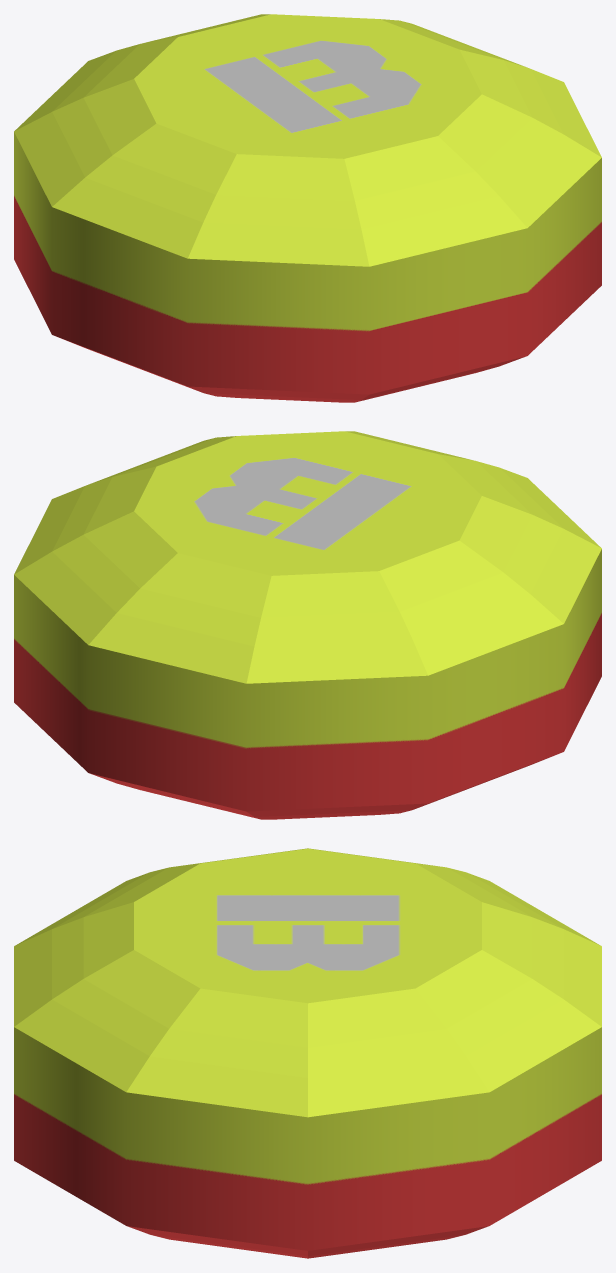
The model's file is Ballstone2.fbx.
The picture shows the model from 3 angles, top to bottom: view 1: azimuth 30°, elevation 25°; view 2: azimuth 150°, elevation 25°; view 3: azimuth 270°, elevation 25°; orthographic projection. The views are drawn at different scales.
Visible parts, largest first — view 1: Cylinder001; view 2: Cylinder001; view 3: Cylinder001.
Part boxes in pixels (x1,y1,x2,y2): Cylinder001: [14, 14, 601, 402]; Cylinder001: [14, 431, 601, 819]; Cylinder001: [14, 848, 601, 1258].
Size of the model in its own units: 40 by 38.04 by 18.2.
Materials: 1 (1 with a texture image).
